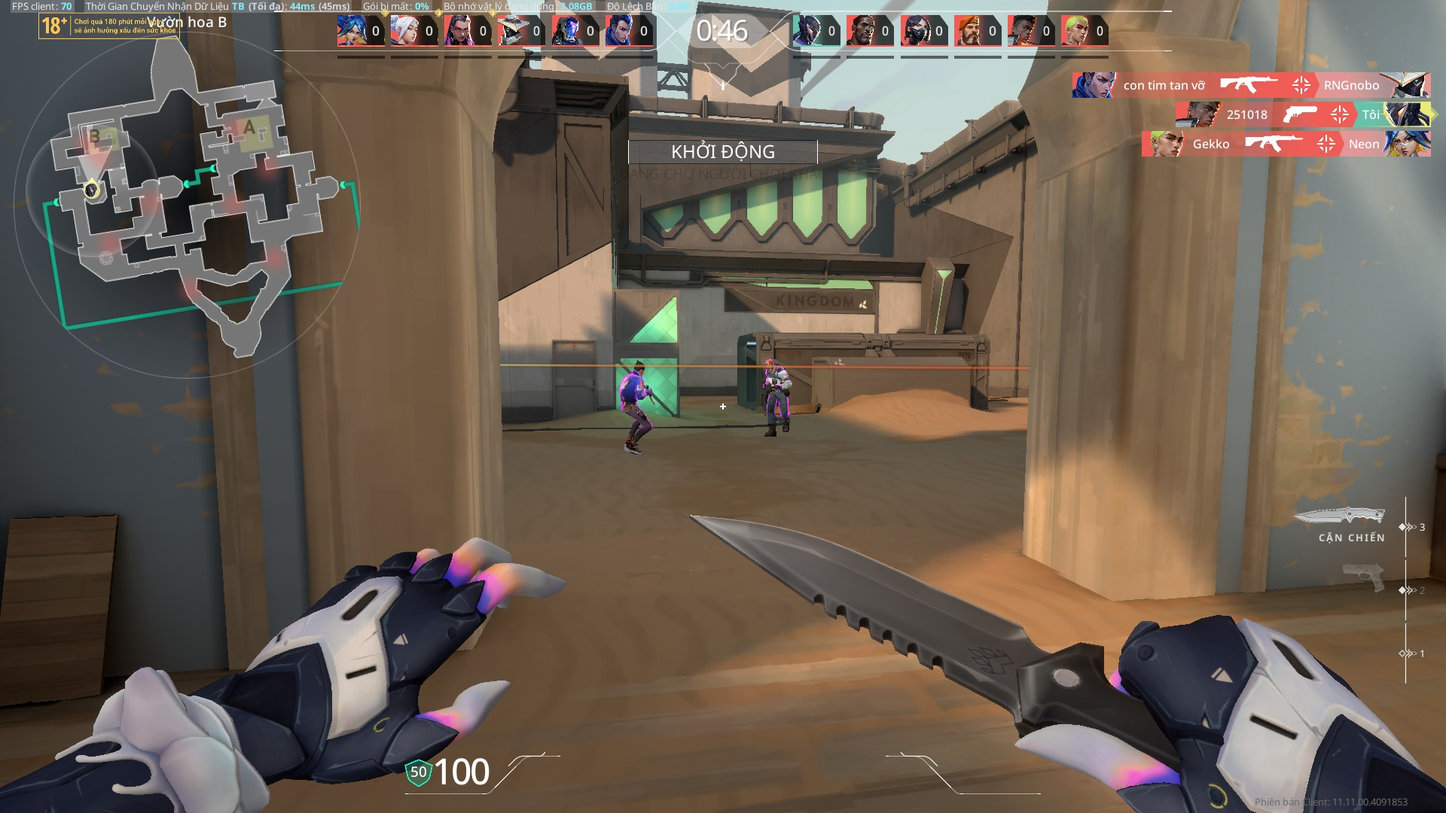body: (762, 368, 791, 396), (623, 373, 643, 404)
head: (633, 362, 648, 373), (763, 356, 774, 369)
